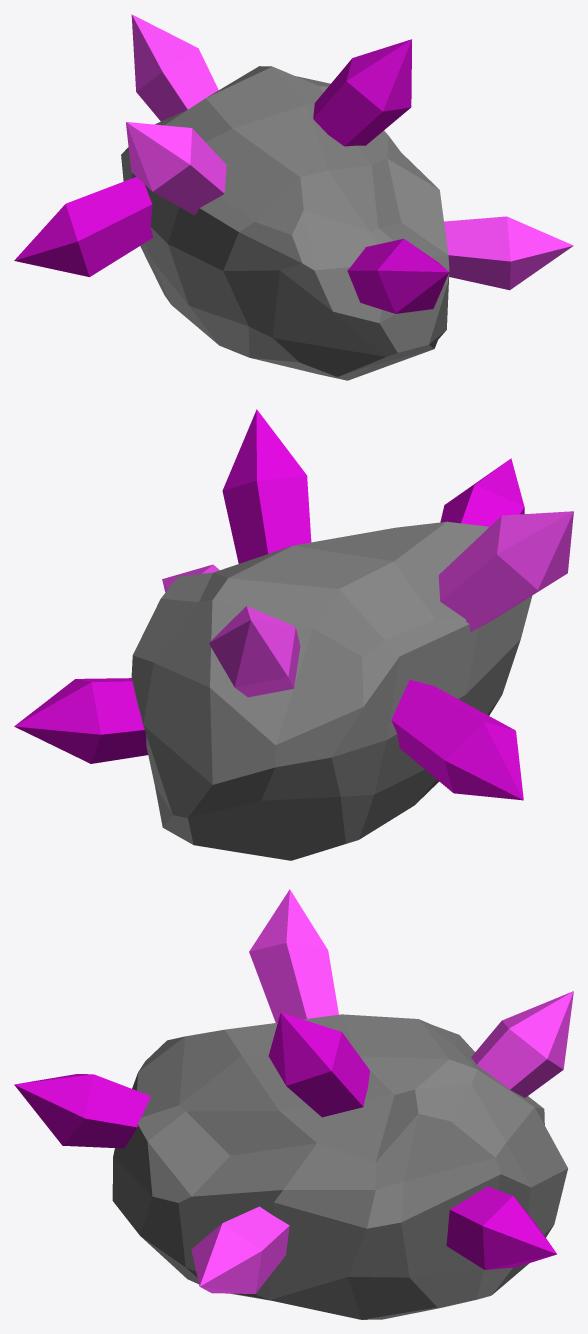
File: MineralNode_01_C.fbx
The picture shows the model from 3 angles, top to bottom: view 1: azimuth 30°, elevation 25°; view 2: azimuth 150°, elevation 25°; view 3: azimuth 270°, elevation 25°; orthographic projection. The views are drawn at different scales.
Visible parts, largest first — view 1: MineralNode_01_C; view 2: MineralNode_01_C; view 3: MineralNode_01_C.
Part boxes in pixels (bbox=[...]): MineralNode_01_C: bbox=[14, 14, 573, 380]; MineralNode_01_C: bbox=[14, 409, 573, 860]; MineralNode_01_C: bbox=[14, 889, 573, 1319].
Size of the model in its own units: 117 by 78.18 by 127.
